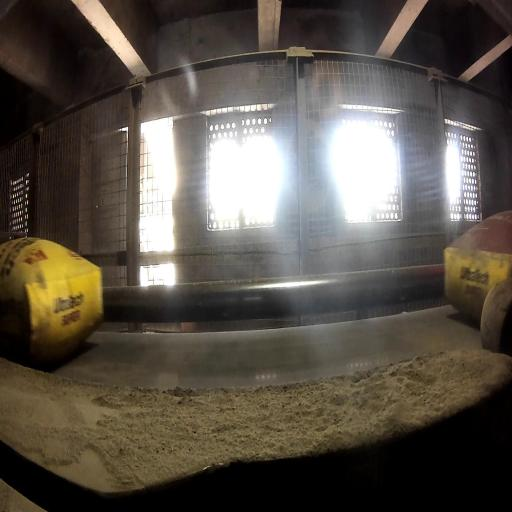c-belt-sack-count: (0, 238, 103, 363), (445, 211, 512, 322)
